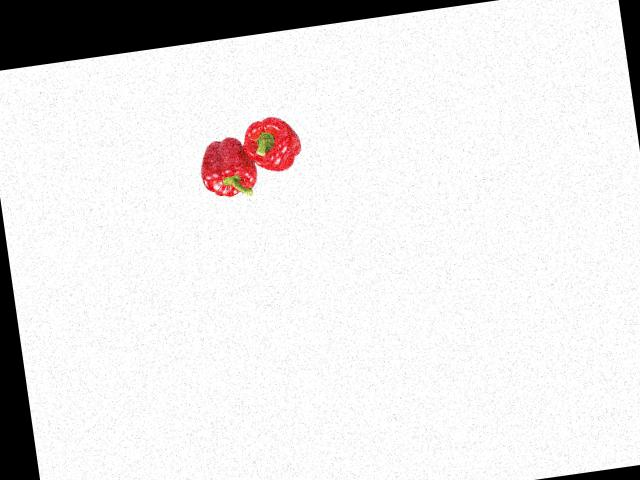bell_pepper: (194, 129, 262, 204)
